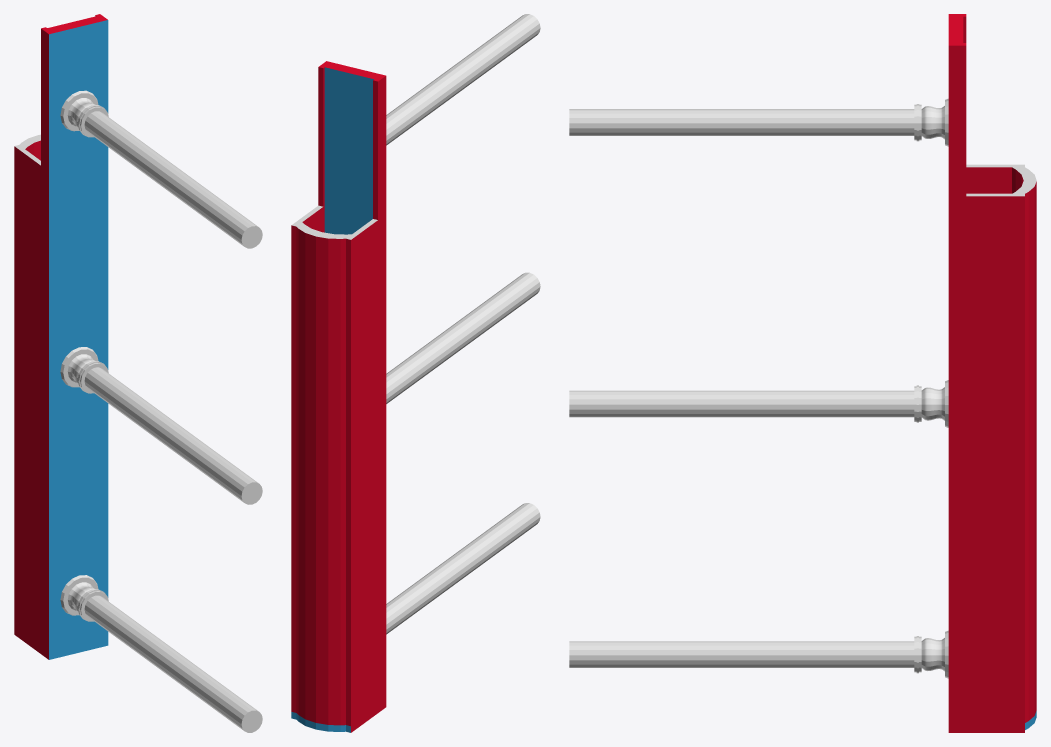
Rendered from tunnelLvL01.fbx.
3 views of the same model, side by side, from view 1: azimuth 30°, elevation 25°; view 2: azimuth 150°, elevation 25°; view 3: azimuth 270°, elevation 25° (orthographic). The views are drawn at different scales.
Visible parts, largest first — view 1: LvL01.001, pillars.001; view 2: LvL01.001, pillars.001; view 3: LvL01.001, pillars.001.
Boxes of the visible parts, x1=… form: LvL01.001: x1=14, y1=14, x2=108, y2=659; pillars.001: x1=60, y1=90, x2=262, y2=732; LvL01.001: x1=291, y1=61, x2=386, y2=732; pillars.001: x1=386, y1=14, x2=540, y2=634; LvL01.001: x1=948, y1=14, x2=1036, y2=732; pillars.001: x1=569, y1=98, x2=948, y2=678.
Size of the model in its own units: 100 by 1011 by 623.
